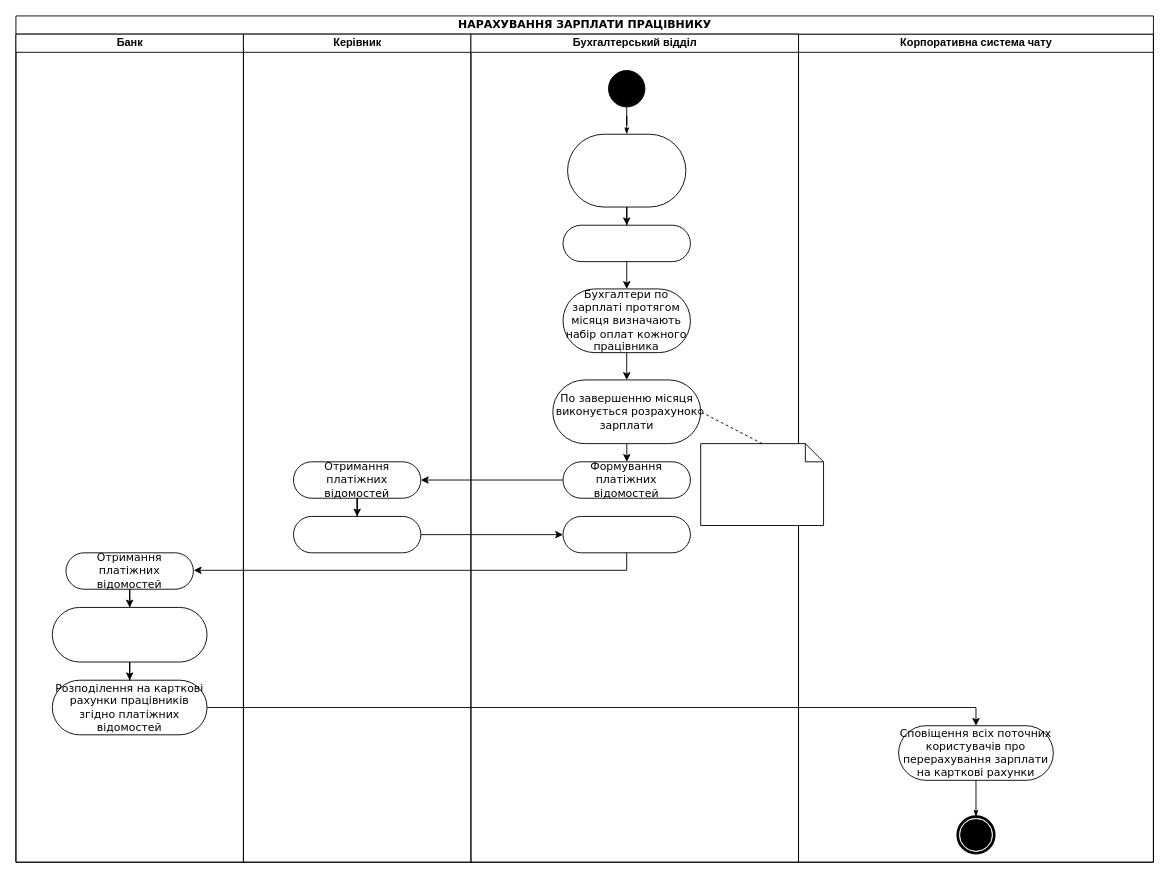
This 1169x878 diagram has some shape labels left out. The centre of each missing label's shape, as x and y in pixels:
"Експорт платіжних відомостей в банк" belongs at [626,534].
"Зняття загальної суми з розрахункового рахунку підприємств" belongs at [129,634].
"Отримання особового рахунку в бухобілку" belongs at [626,243].
"Підписання платіжних відомостей" belongs at [357,534].
"Розрахунок відбувається за допомогою формул" belongs at [762,484].
"Створення персонального акаунта з особовим рахунком" belongs at [626,170].
